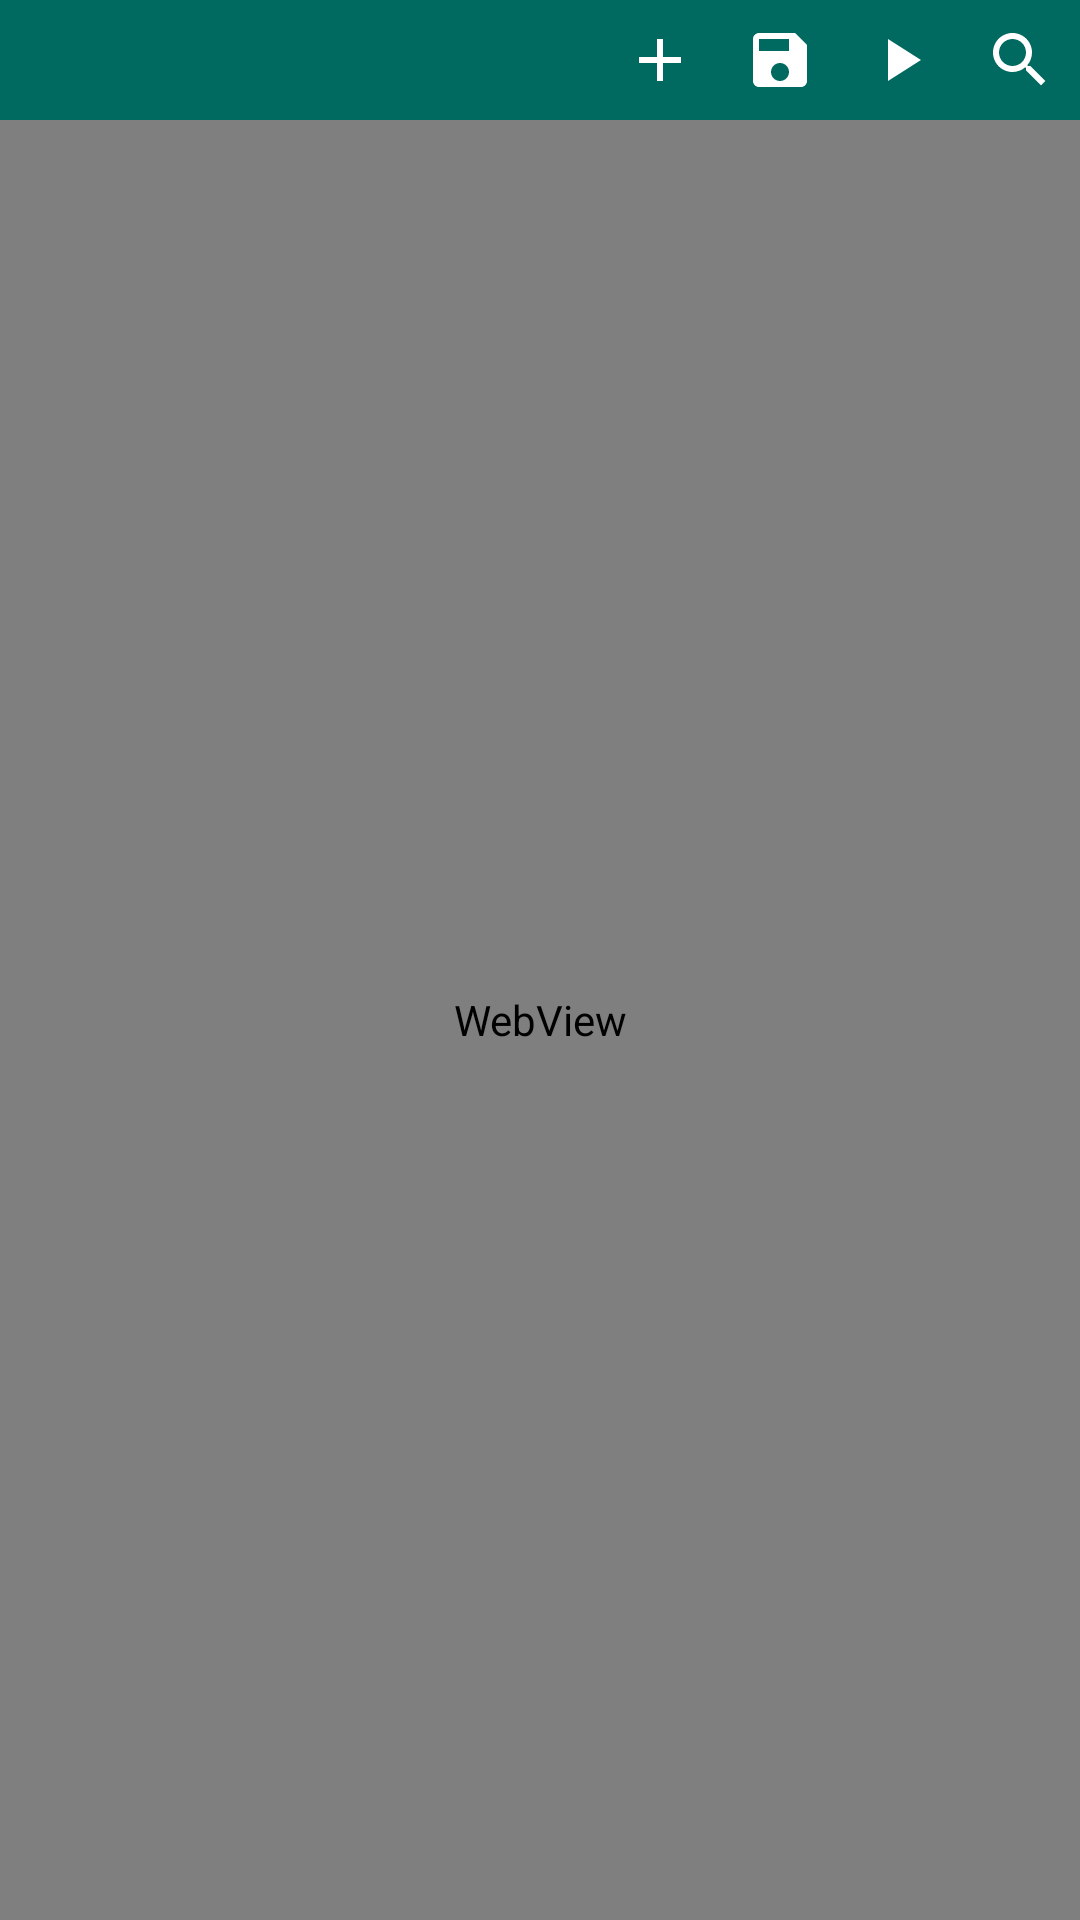

Icons on this 1080*1920 Android screen, each with its box as (x1, y1, x2, y2):
Build & run: (888, 39, 921, 81)
Find: (993, 33, 1045, 85)
New file: (639, 39, 681, 81)
Save: (753, 33, 807, 87)
